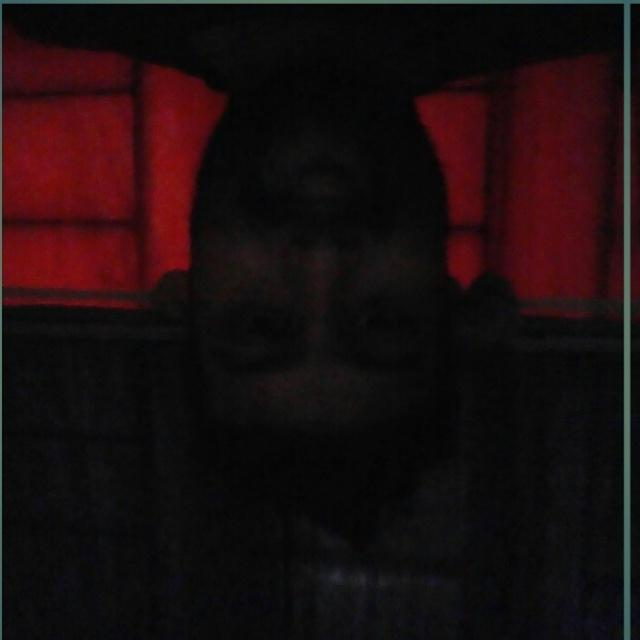Happy: (157, 87, 493, 472)
